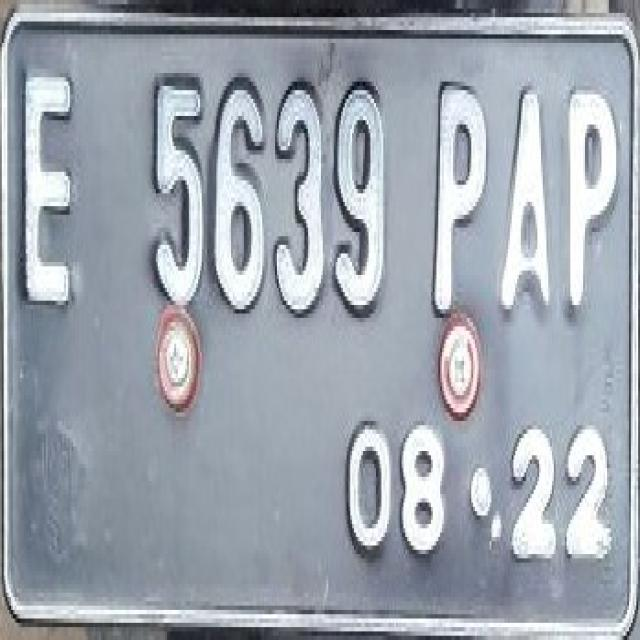plate: (0, 4, 636, 635)
